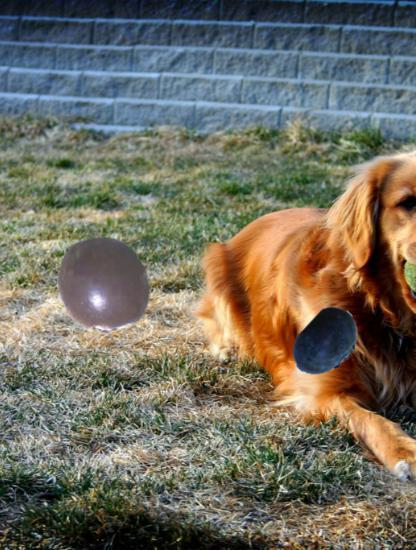Blueberry: (289, 305, 365, 381)
Passion: (55, 235, 155, 335)
